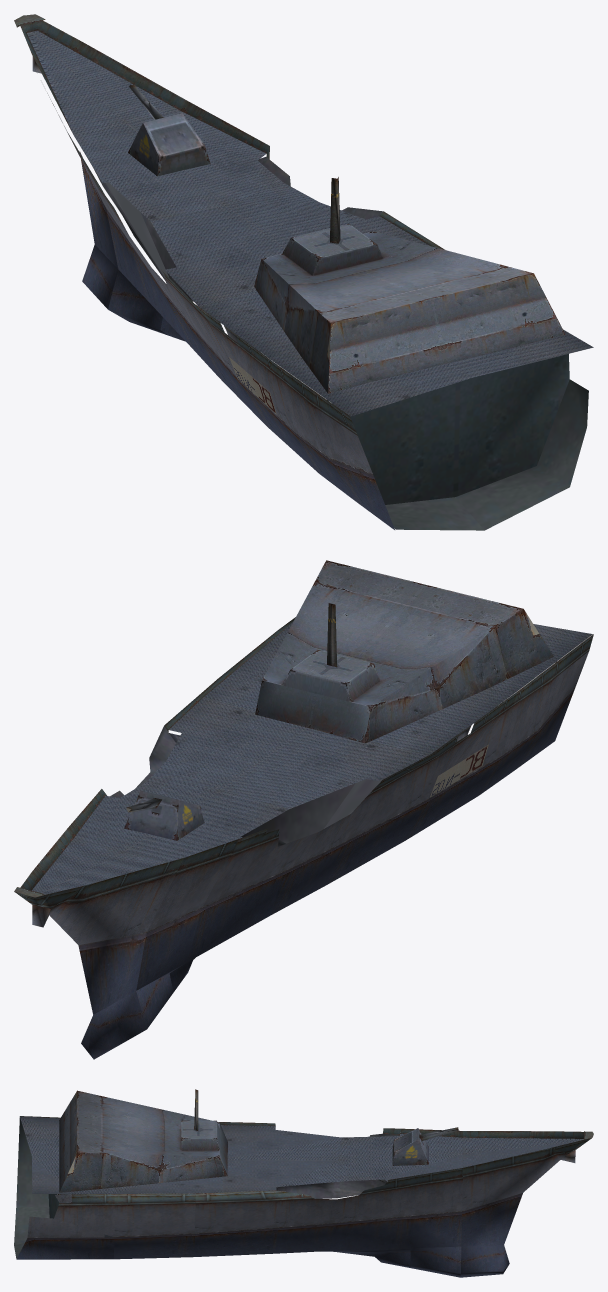
Rendered from Prop_DjShip003a_lod2.glb.
The picture shows the model from 3 angles, top to bottom: view 1: azimuth 30°, elevation 25°; view 2: azimuth 150°, elevation 25°; view 3: azimuth 270°, elevation 25°; orthographic projection. The views are drawn at different scales.
Visible parts, largest first — view 1: dj_ship003a_lod2; view 2: dj_ship003a_lod2; view 3: dj_ship003a_lod2.
Boxes of the visible parts, <box> form: dj_ship003a_lod2: <box>14,14,593,530</box>; dj_ship003a_lod2: <box>14,560,593,1059</box>; dj_ship003a_lod2: <box>14,1089,593,1277</box>.
Bounding box in the file's own units: 27.55 × 30.93 × 86.74.
1 material, 1 textured.
